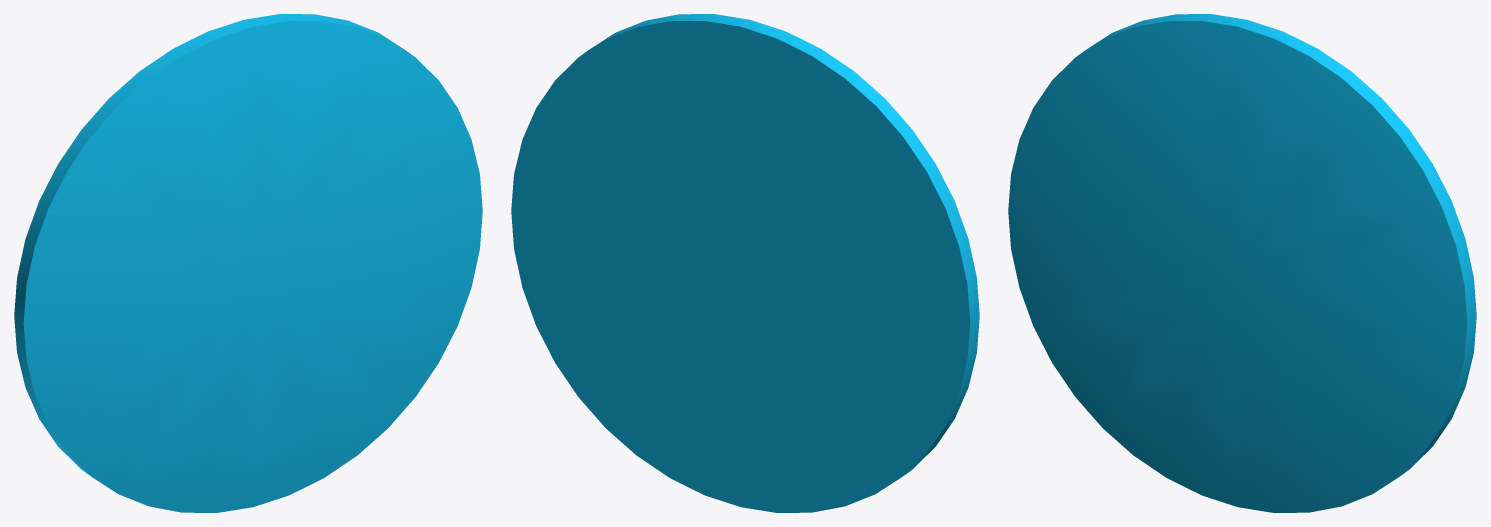
Rendered from EM_Screen.obj.
3 views of the same model, side by side, from view 1: azimuth 30°, elevation 25°; view 2: azimuth 150°, elevation 25°; view 3: azimuth 330°, elevation 25° (orthographic).
Parts seen in each view (by area): view 1: EM_Screen; view 2: EM_Screen; view 3: EM_Screen.
Part boxes in pixels (box(x1,y1,x2,y2)): EM_Screen: box(14, 14, 482, 512); EM_Screen: box(511, 14, 979, 512); EM_Screen: box(1008, 14, 1476, 512).
Bounding box in the file's own units: 1.12 × 1.12 × 0.085.
